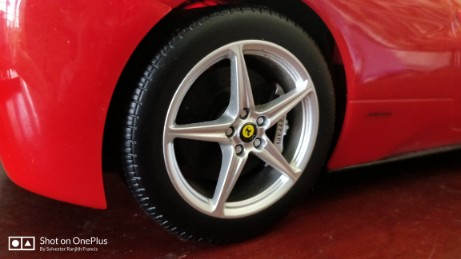aligned_wheel: (113, 1, 335, 245)
